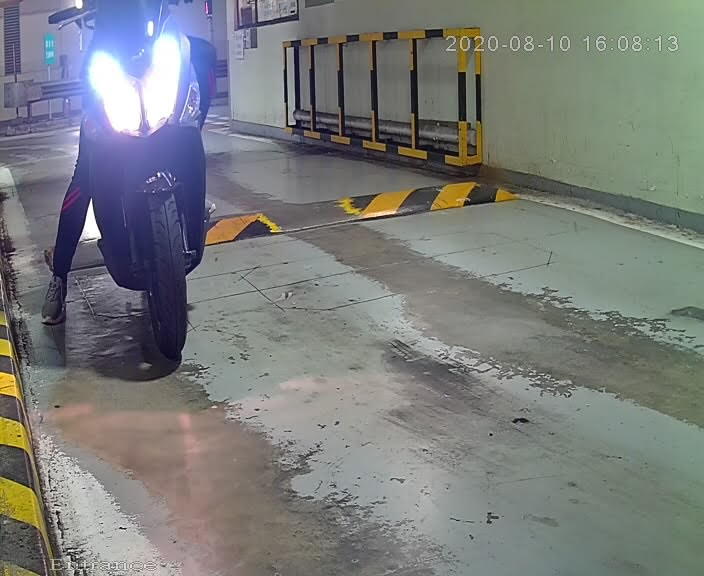motorcycle: (23, 1, 231, 378)
